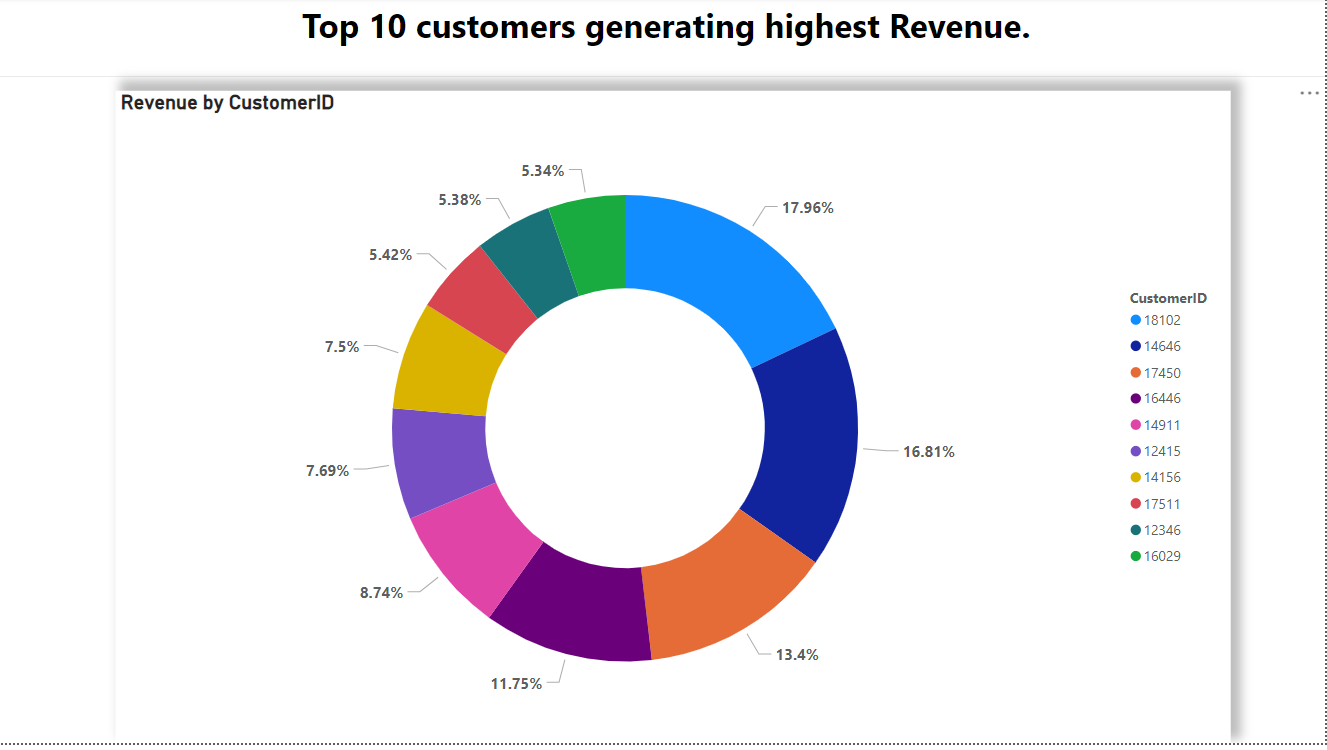

This screenshot's page, from the dashboard's own definition file:
{"tool":"powerbi","page":{"name":"Q(3)","canvas":[1280,720],"ordinal":2},"visuals":[{"type":"textbox","box":[0,0,1280.6,76.8],"z":0},{"type":"donutChart","title":"Revenue by CustomerID","fields":{"Category":["Online Retail (2).CustomerID"],"Y":["Sum(Online Retail (2).Revenue1)"]},"box":[113.2,90.3,1075.7,629.5],"z":1}]}

Visuals, with their boxes in screenshot pixels (x1, y1, x2, y2), scaled from the page's 1280x720 canvas onto the 1327x750 screenshot:
textbox: x1=0, y1=0, x2=1326, y2=80
"Revenue by CustomerID" donutChart: x1=117, y1=94, x2=1233, y2=749
